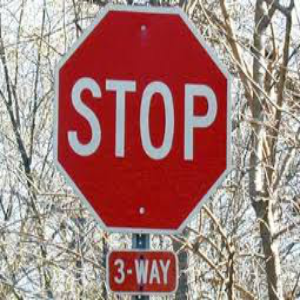STOP_SIGN: (54, 5, 232, 234)
